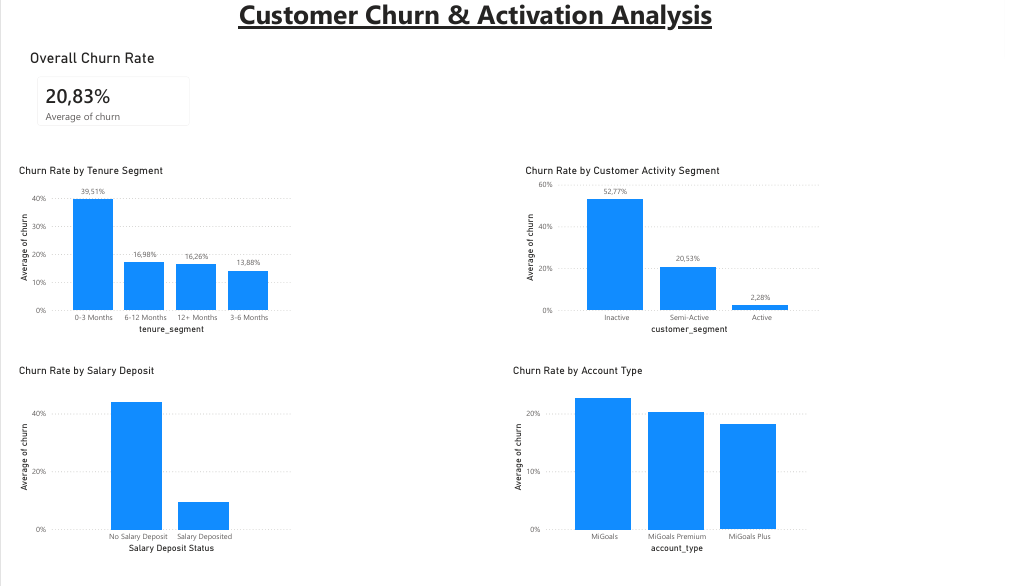

This screenshot's page, from the dashboard's own definition file:
{"tool":"powerbi","page":{"name":"Page 1","canvas":[1600,1000],"ordinal":0},"visuals":[{"type":"cardVisual","title":"Overall Churn Rate","fields":{"Data":["Avg(customer_churn_data (1).churn)"]},"box":[18.3,146.7,280,140],"z":0},{"type":"clusteredColumnChart","title":"Churn Rate by Tenure Segment","fields":{"Category":["customer_churn_data (1).tenure_segment"],"Y":["Avg(customer_churn_data (1).churn)"]},"box":[0,333.3,450,278.3],"z":1000},{"type":"clusteredColumnChart","title":"Churn Rate  by Customer Activity Segment","fields":{"Category":["customer_churn_data (1).customer_segment"],"Y":["Avg(customer_churn_data (1).churn)"]},"box":[820,333.3,486.7,278.3],"z":2000},{"type":"clusteredColumnChart","title":"Churn Rate by Salary Deposit","fields":{"Category":["customer_churn_data (1).Salary Deposit Status"],"Y":["Avg(customer_churn_data (1).churn)"]},"box":[0,656.7,450,310],"z":3000},{"type":"clusteredColumnChart","title":"Churn Rate by Account Type","fields":{"Category":["customer_churn_data (1).account_type"],"Y":["Avg(customer_churn_data (1).churn)"]},"box":[800,656.7,486.7,310],"z":4000},{"type":"textbox","box":[18.3,55,1451.7,91.7],"z":5001}]}

Visuals, with their boxes on the page's 1600x1000 design canvas (x1, y1, x2, y2). These are canvas units, not pixel positions in the 1019x586 screenshot, which may show the page scaled, cropped or inside an application window:
"Overall Churn Rate" cardVisual: 18, 147, 298, 287
"Churn Rate by Tenure Segment" clusteredColumnChart: 0, 333, 450, 612
"Churn Rate  by Customer Activity Segment" clusteredColumnChart: 820, 333, 1307, 612
"Churn Rate by Salary Deposit" clusteredColumnChart: 0, 657, 450, 967
"Churn Rate by Account Type" clusteredColumnChart: 800, 657, 1287, 967
textbox: 18, 55, 1470, 147
